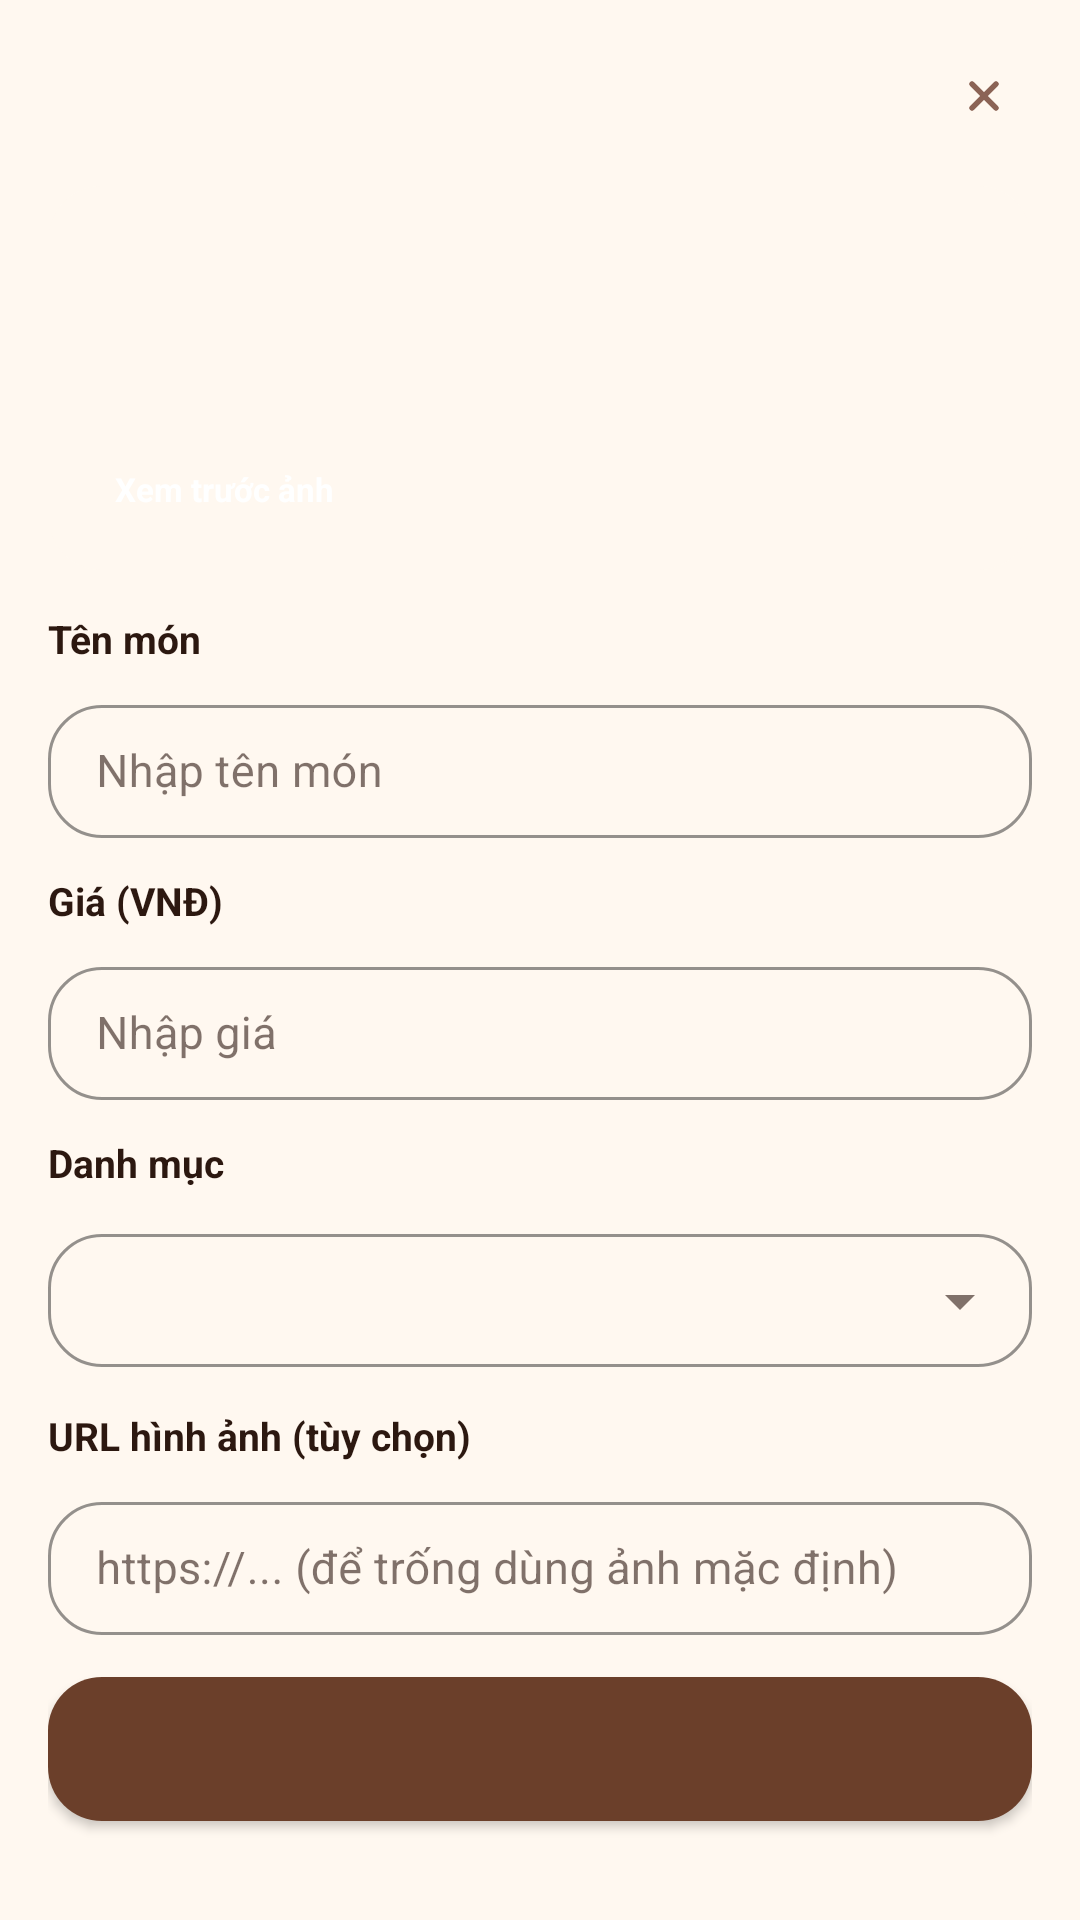

Icon bounding boxes for this 1080px×1920px phone screenshot, format (left=x1, top=y1, right=x2, bottom=y2):
Đóng: (left=969, top=81, right=999, bottom=111)
